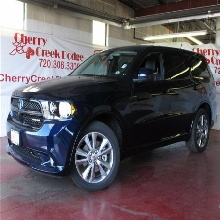no damage: (5, 45, 216, 192)
